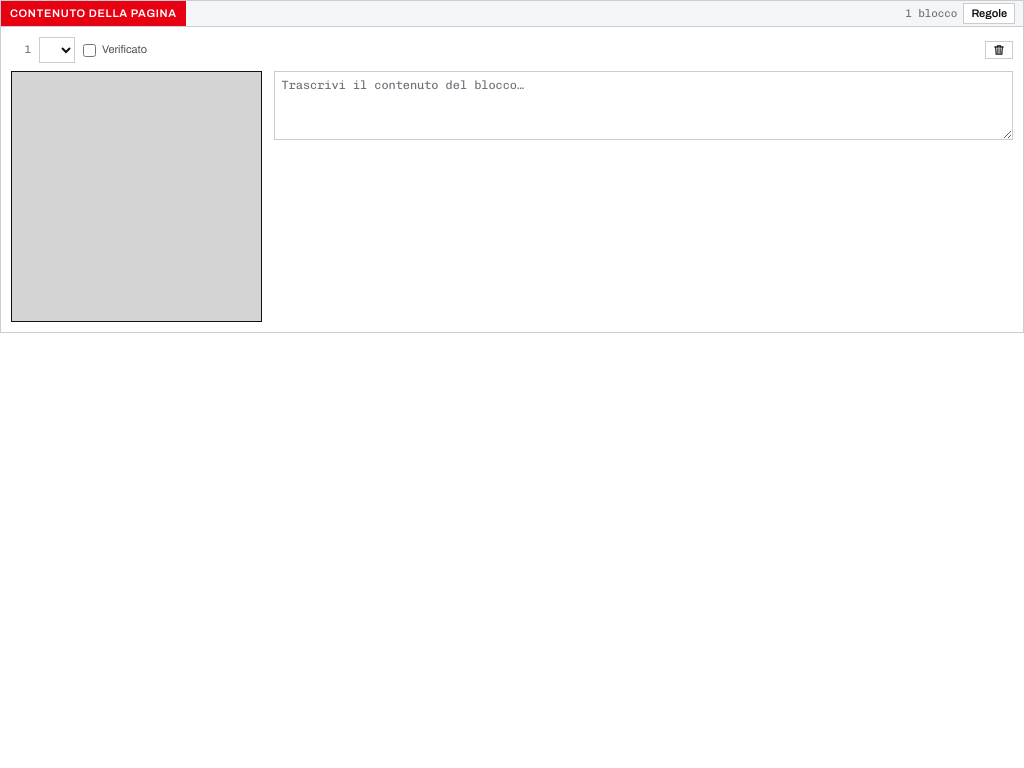
Test: ContentPane › le regole di trascrizione stanno dietro il loro pulsante, non nel rail
Expected: the text "Ricomporre le parole spezzate" is not shown
Click the button "Regole" at (989,13), box 963,2 -> 1015,24
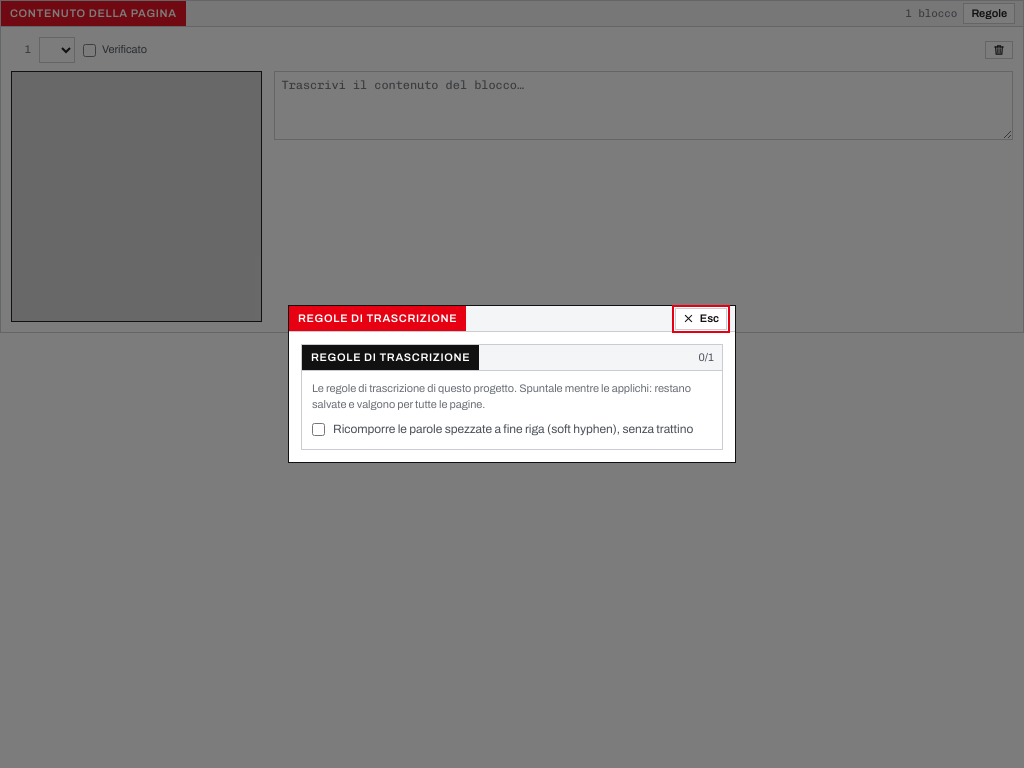
Now the dialog "Regole di trascrizione" is shown, box 288,305 -> 736,463
Now the text "Ricomporre le parole spezzate" is shown, box 333,422 -> 693,436
